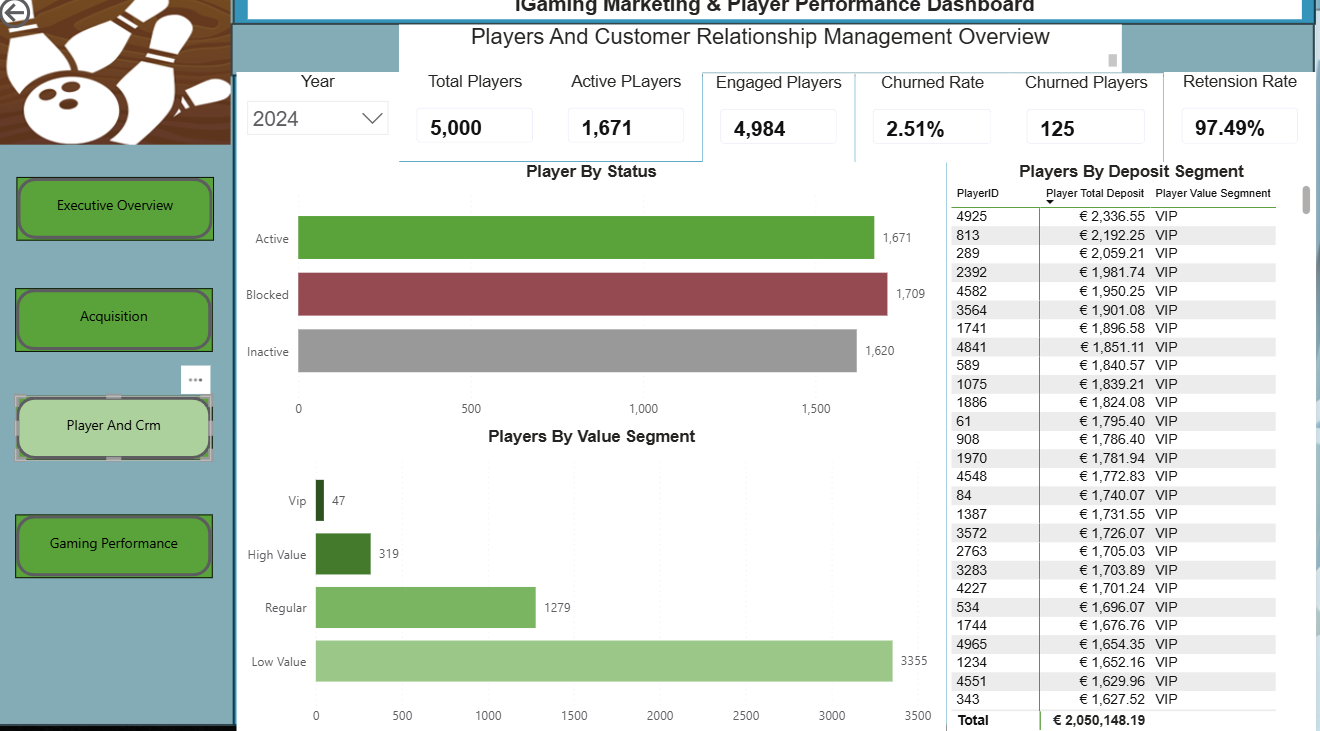

This screenshot's page, from the dashboard's own definition file:
{"tool":"powerbi","page":{"name":"Player And Crm","canvas":[1280,720],"ordinal":3},"visuals":[{"type":"actionButton","title":"Executive Overview","box":[21.2,178.6,191.1,61.2],"z":0},{"type":"actionButton","title":"Executive Overview","box":[20,287.3,191.1,61.2],"z":1000},{"type":"actionButton","title":"Executive Overview","box":[20,390.9,191.1,62.5],"z":2000},{"type":"actionButton","title":"Executive Overview","box":[20,505.9,191.1,61.2],"z":3000},{"type":"slicer","title":"Year","fields":{"Values":["DateTable.Year"]},"box":[234.8,77.4,157.4,87.4],"z":4000},{"type":"cardVisual","title":"Total Players","fields":{"Data":["Player And CRM table.Total Player"]},"box":[391.8,77.4,147.2,86.1],"z":5000},{"type":"cardVisual","title":"Active PLayers","fields":{"Data":["Executive KPI Measure.Active Playerd"]},"box":[539.1,77.4,147.2,86.1],"z":6000},{"type":"cardVisual","title":"Engaged Players","fields":{"Data":["Player and CRM.Engaged Players"]},"box":[686.3,78.6,147.2,86.1],"z":7000},{"type":"actionButton","box":[0,0,100,40],"z":8000},{"type":"barChart","title":"Player By Status","fields":{"Category":["Players.Status"],"Y":["Player And CRM table.Total Player"]},"box":[234.6,164.7,687.5,257],"z":9000},{"type":"pivotTable","title":"Players By Deposit Segment","fields":{"Rows":["Players.PlayerID"],"Values":["Player and CRM.Player Total Deposit","Player and CRM.Player Value Segmnent"]},"box":[922.1,164.7,358.1,555.3],"z":10000},{"type":"cardVisual","title":"Churned Players","fields":{"Data":["Player And CRM table.Churned players 90D"]},"box":[983.3,78.6,149.7,86.1],"z":11000},{"type":"cardVisual","title":"Retension Rate","fields":{"Data":["Player And CRM table.Retension Rate 90D"]},"box":[1133,77.4,147.2,87.3],"z":12000},{"type":"cardVisual","title":"Churned Rate","fields":{"Data":["Player And CRM table.Churned Rate 90D"]},"box":[833.5,78.6,149.7,86.1],"z":13000},{"type":"clusteredBarChart","title":"Players  By Value Segment","fields":{"Category":["Player Value Bands.value Segment"],"Y":["Player and CRM.Players In Value Band"]},"box":[234.6,421.8,687.5,298.2],"z":14000},{"type":"textbox","title":"Players And Customer Relationship Management Overview","box":[391.8,31.2,700,46.2],"z":15000},{"type":"textbox","title":"iGaming Marketing & Player Performance Dashboard","box":[245.7,0,1020.4,26.6],"z":16000}]}

Visuals, with their boxes on the page's 1280x720 design canvas (x1, y1, x2, y2). These are canvas units, not pixel positions in the 1320x731 screenshot, which may show the page scaled, cropped or inside an application window:
"Executive Overview" actionButton: 21 179 212 240
"Executive Overview" actionButton: 20 287 211 348
"Executive Overview" actionButton: 20 391 211 453
"Executive Overview" actionButton: 20 506 211 567
"Year" slicer: 235 77 392 165
"Total Players" cardVisual: 392 77 539 164
"Active PLayers" cardVisual: 539 77 686 164
"Engaged Players" cardVisual: 686 79 834 165
actionButton: 0 0 100 40
"Player By Status" barChart: 235 165 922 422
"Players By Deposit Segment" pivotTable: 922 165 1280 720
"Churned Players" cardVisual: 983 79 1133 165
"Retension Rate" cardVisual: 1133 77 1280 165
"Churned Rate" cardVisual: 834 79 983 165
"Players  By Value Segment" clusteredBarChart: 235 422 922 720
"Players And Customer Relationship Management Overview" textbox: 392 31 1092 77
"iGaming Marketing & Player Performance Dashboard" textbox: 246 0 1266 27
